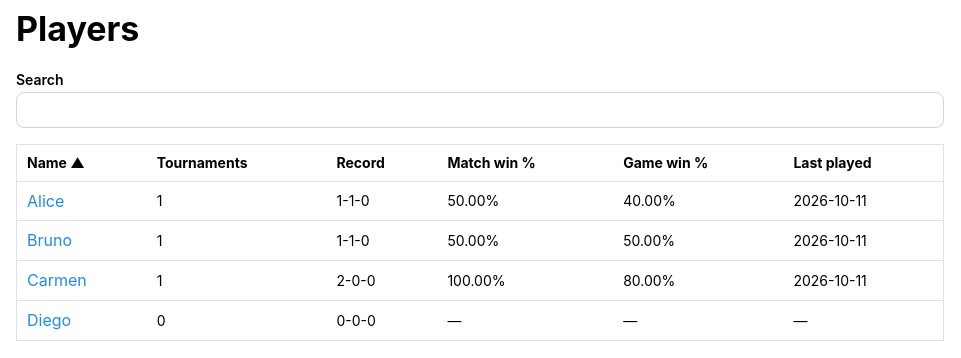
Test: PlayersPage › filters by a case-insensitive part of the name
Expected: the link "Alice" is shown, [27,191,64,211]
Type "R" into the field labelled "Search" at (480,110), box [16,92,944,128]
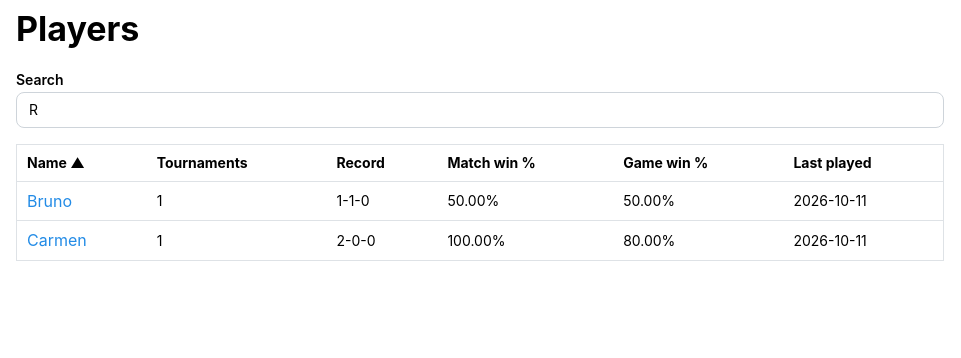
Replace the text in the field labelled "Search" with "zz" at (480,110), box [16,92,944,128]
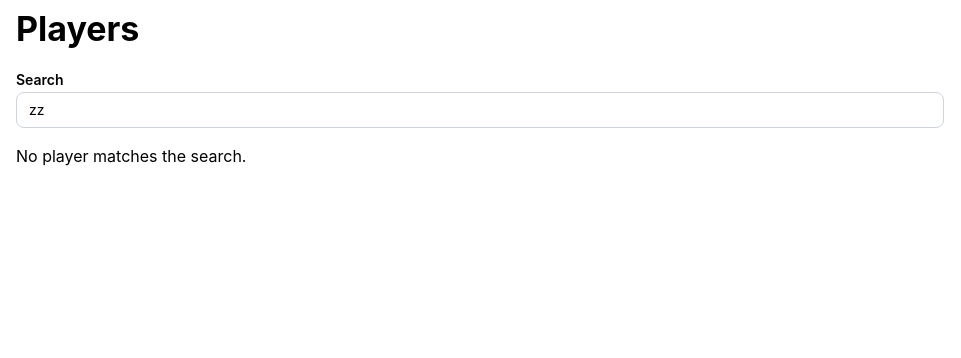
Expected: the text "No player matches the search." is shown, [16,146,246,166]
